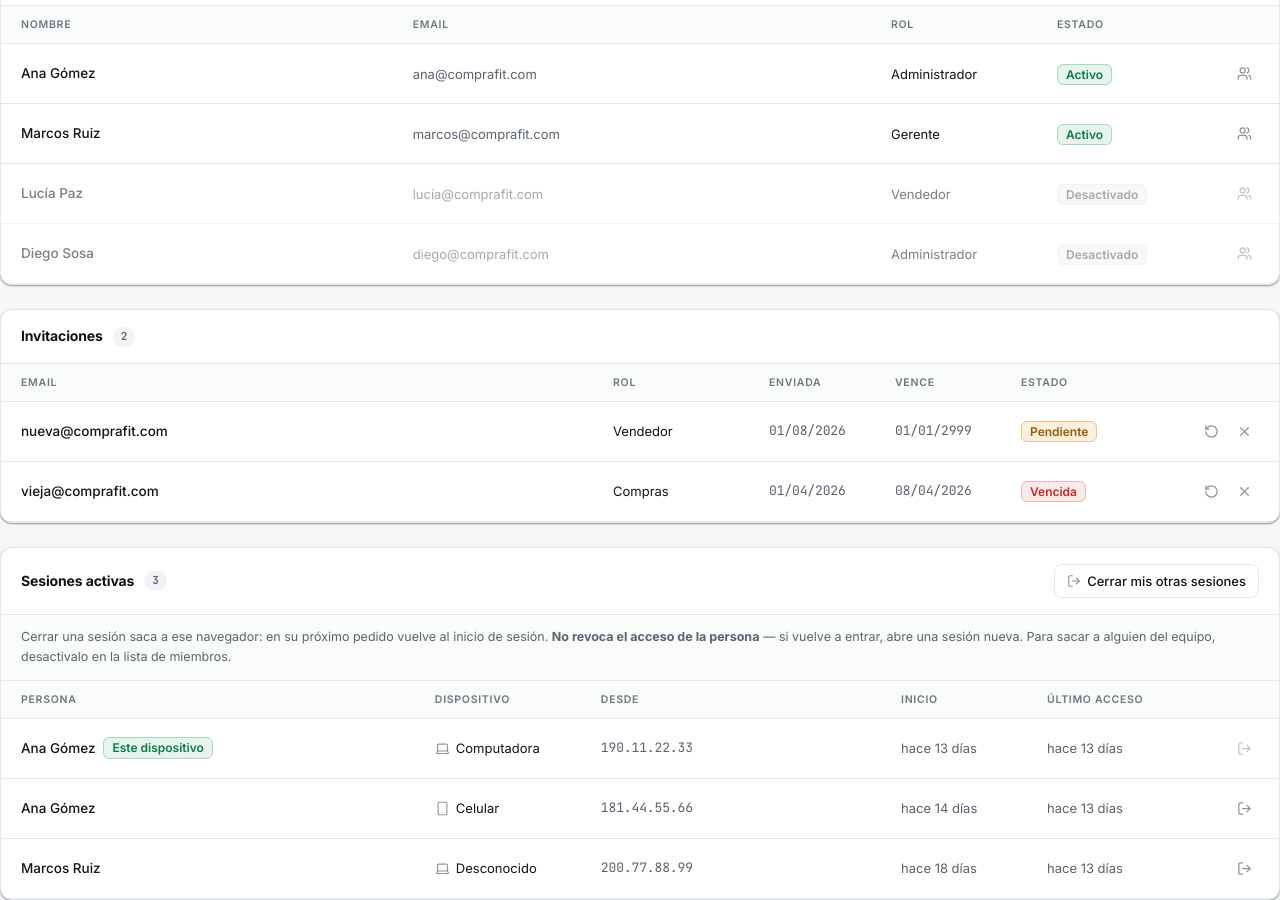
Test: la lista de sesiones dice la verdad sobre lo que hace cerrar una › la confirmación dice que se cierra en TODAS las empresas y que no revoca nada
(page scrolled)
Step 1. Click the button titled "Cerrar sesión en ese dispositivo" in the row of "hace 14 días" → coordinates (1244, 808), box left=1230, top=794, right=1259, bottom=823
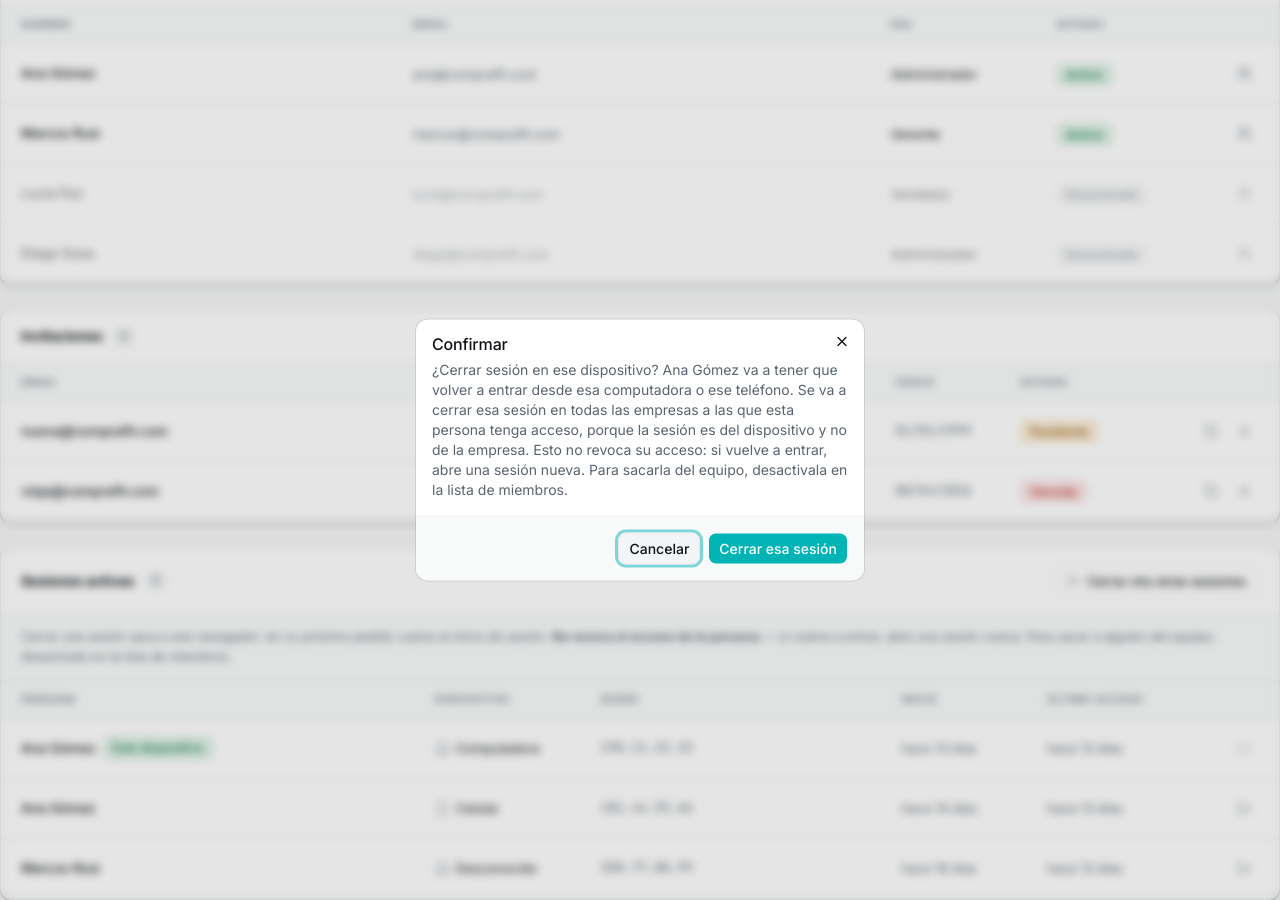
Expected: the text "no revoca su acceso" is shown, left=432, top=360, right=847, bottom=498
